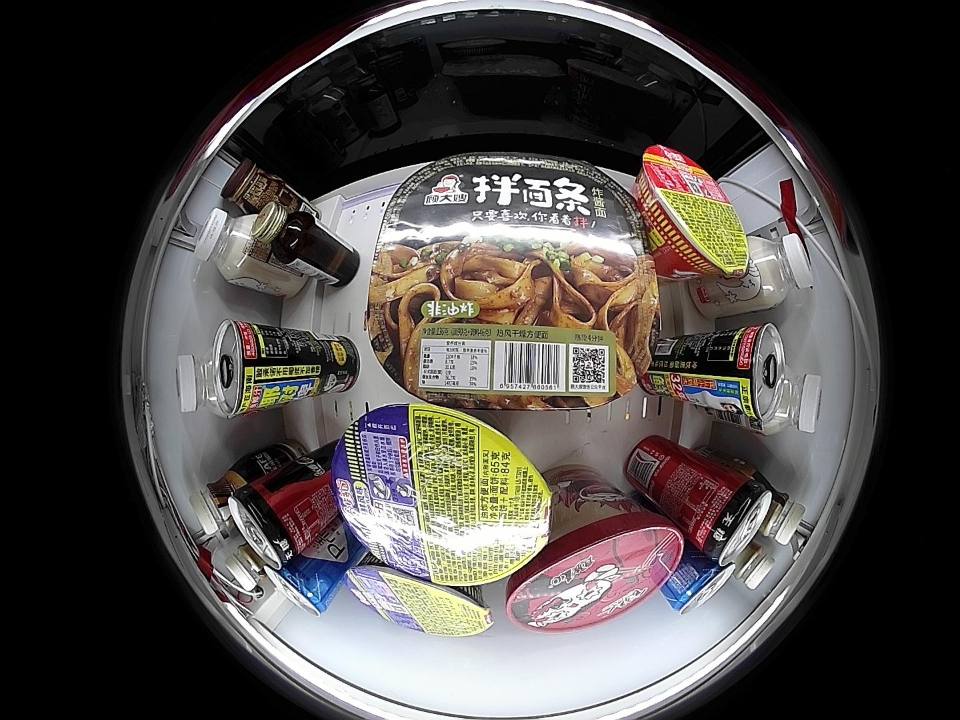gudasao: (364, 153, 660, 412)
heweidao: (332, 403, 551, 587), (344, 560, 492, 638)
heweidao3: (638, 146, 749, 281)
kafei: (190, 465, 249, 537), (755, 476, 805, 545), (224, 540, 272, 591), (733, 538, 776, 590)
libaojian: (250, 199, 313, 262)
lingdukele: (688, 468, 774, 568), (228, 476, 309, 572)
lujikafei: (220, 157, 279, 213)
qingdaowangzi-2: (264, 556, 339, 617), (664, 554, 735, 615)
suanlafen: (505, 507, 684, 633)
weiweidounai: (744, 231, 815, 308), (194, 207, 262, 284), (764, 367, 823, 436), (177, 352, 231, 418)
yezhi: (720, 322, 785, 427), (209, 318, 271, 418)
